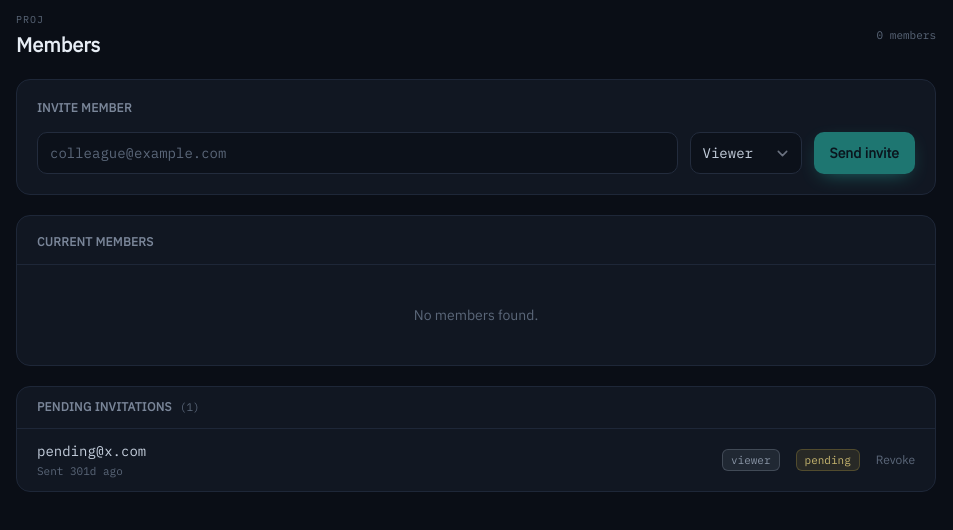
Members — owner (management) › lists pending invitations and revokes one
Expected: the text "pending@x.com" is shown, left=37, top=442, right=146, bottom=460
Click the button "Revoke". click: click(895, 460)
box: left=876, top=452, right=915, bottom=468
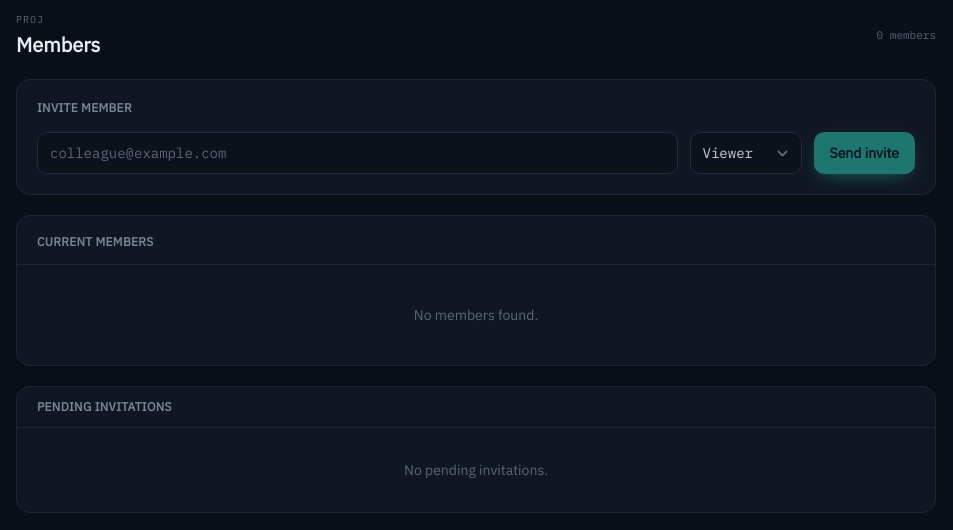
Expected: the text "pending@x.com" is gone
